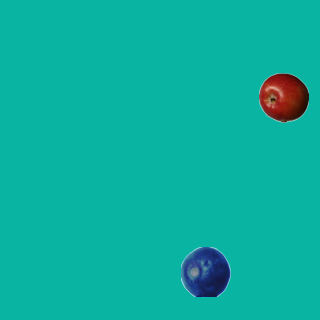Apple Braeburn: (258, 72, 308, 122)
Huckleberry: (180, 246, 230, 296)
